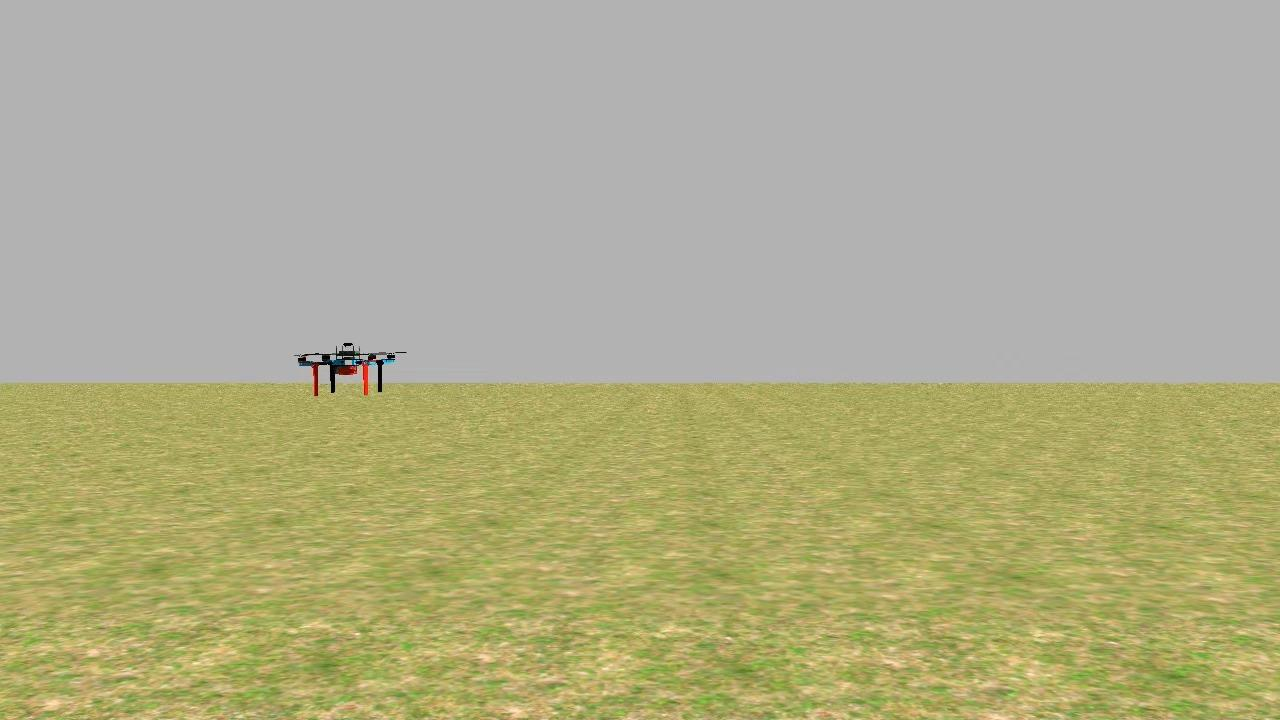UAV: (285, 339, 406, 400)
